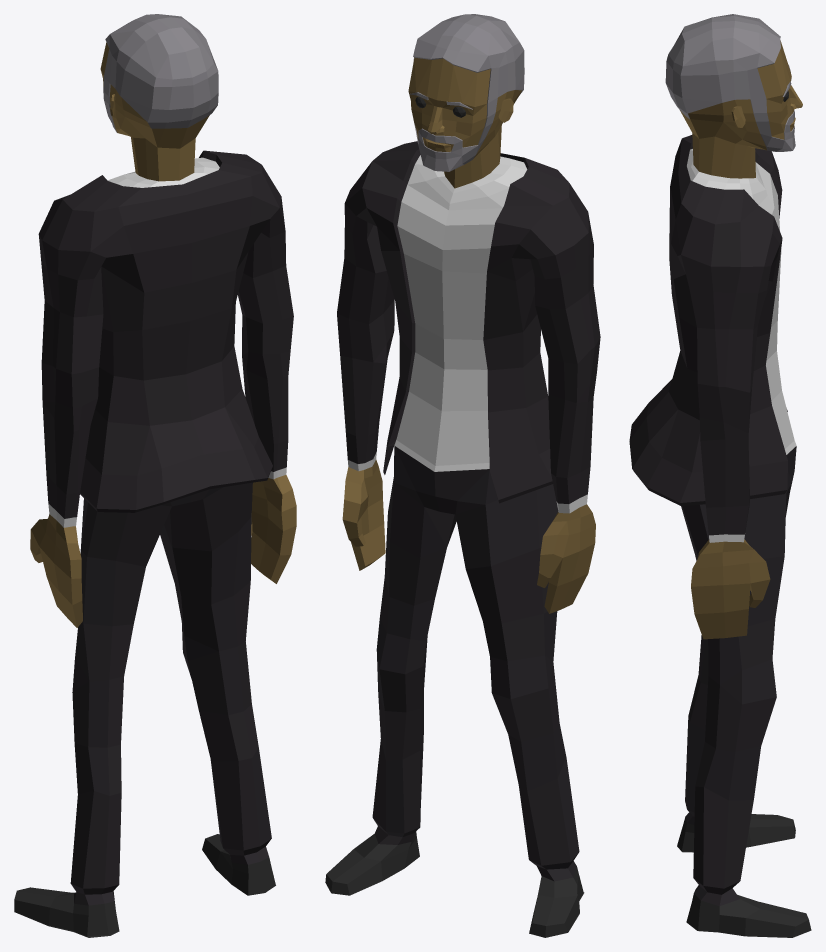
The model's file is Male_Suit.glb.
3 renders of one model, left to right at view 1: azimuth 30°, elevation 25°; view 2: azimuth 150°, elevation 25°; view 3: azimuth 270°, elevation 25°, orthographic.
Parts seen in each view (by area): view 1: Male_Suit; view 2: Male_Suit; view 3: Male_Suit.
Boxes of the visible parts, x1=… form: Male_Suit: x1=14, y1=14, x2=296, y2=937; Male_Suit: x1=325, y1=14, x2=600, y2=937; Male_Suit: x1=629, y1=14, x2=811, y2=937.
Bounding box in the file's own units: 1.42 × 4.83 × 0.9217.
